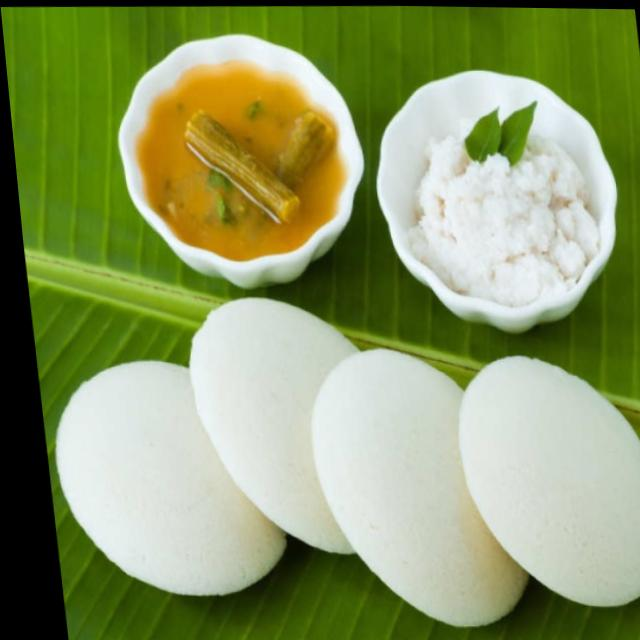IDLI: (54, 297, 640, 625)
SAMBAR: (129, 57, 349, 263)
WHITE CHUTNEY: (405, 134, 598, 304)
